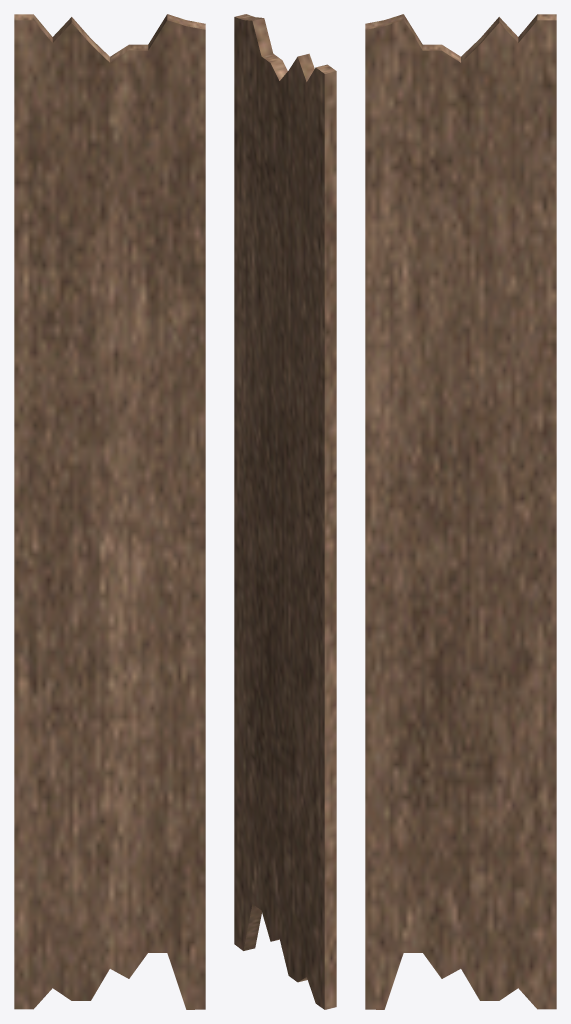
Rendered from Wooden Plank.fbx.
3 views of the same model, side by side, from view 1: azimuth 90°, elevation 25°; view 2: azimuth 210°, elevation 25°; view 3: azimuth 270°, elevation 25° (orthographic). The views are drawn at different scales.
Parts seen in each view (by area): view 1: Box010; view 2: Box010; view 3: Box010.
Part boxes in pixels (left/top/right/bottom): Box010: left=14, top=14, right=205, bottom=1009; Box010: left=234, top=14, right=336, bottom=1009; Box010: left=365, top=14, right=556, bottom=1009.
Bounding box in the file's own units: 3.73 × 283 × 49.42.
Materials: 1 (1 with a texture image).
